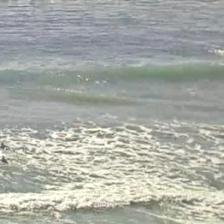surfer: (0, 141, 11, 152), (0, 156, 9, 164)
